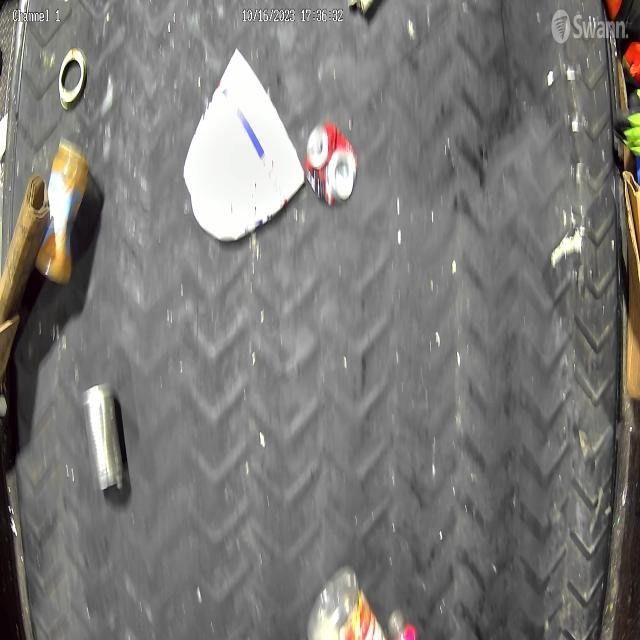can: (77, 382, 121, 506), (310, 123, 356, 204)
